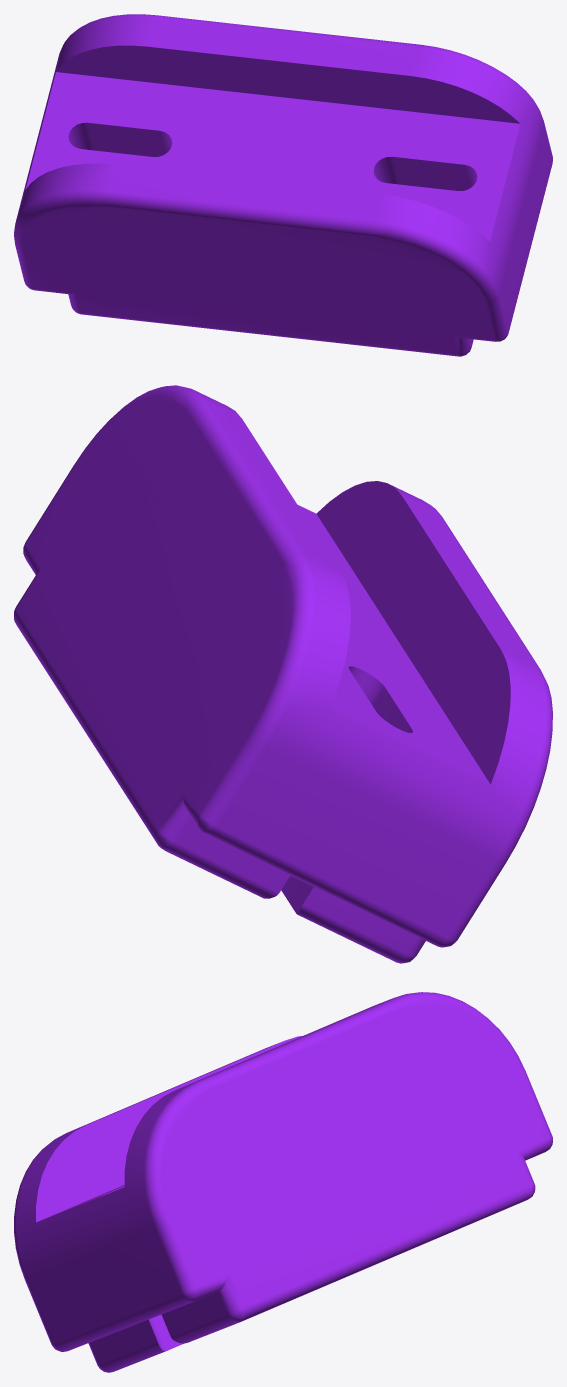
3 renders of one model, top to bottom at view 1: azimuth 30°, elevation 25°; view 2: azimuth 150°, elevation 25°; view 3: azimuth 270°, elevation 25°, orthographic. The views are drawn at different scales.
Visible parts, largest first — view 1: Object_2; view 2: Object_2; view 3: Object_2.
Boxes of the visible parts, <box> form: Object_2: <box>14,14,552,356</box>; Object_2: <box>14,385,552,963</box>; Object_2: <box>14,992,552,1372</box>.
Bounding box in the file's own units: 13.16 × 7.77 × 13.12.
